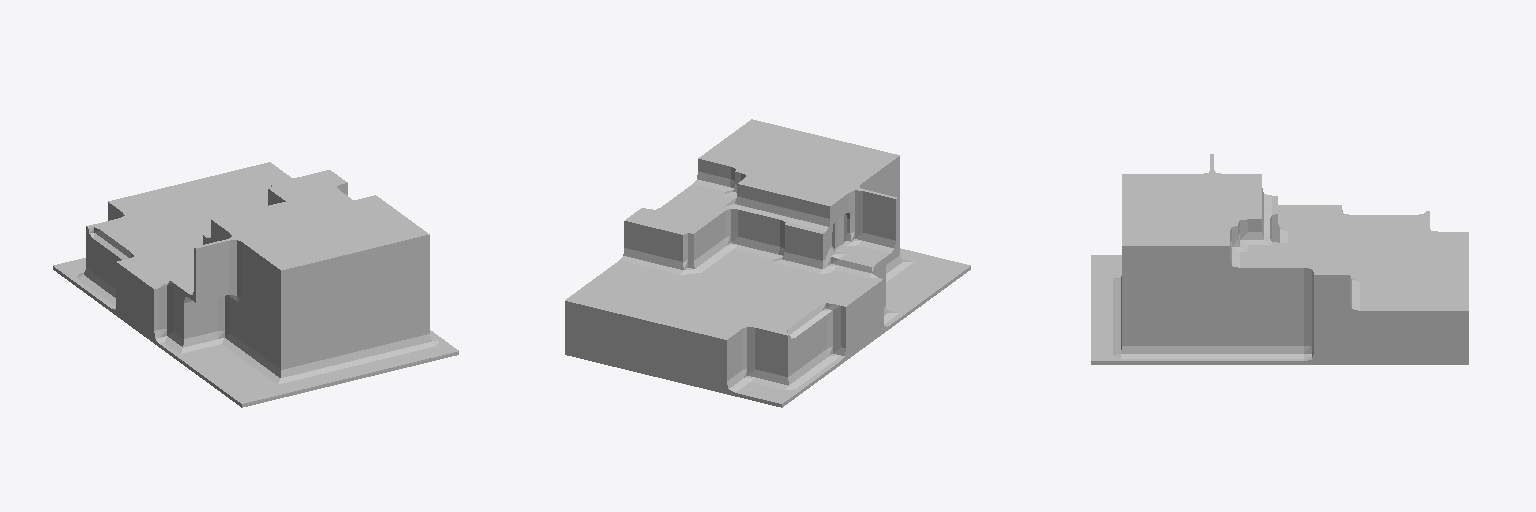
The model's file is World_0.obj.
The picture shows the model from 3 angles: view 1: azimuth 30°, elevation 25°; view 2: azimuth 150°, elevation 25°; view 3: azimuth 270°, elevation 25°; orthographic projection.
Parts seen in each view (by area): view 1: Chunk (2, 0, 5), Chunk (3, 0, 3), Chunk (2, 1, 5), Chunk (1, 0, 5), Chunk (1, 1, 5), Chunk (3, 0, 2), Chunk (2, 1, 4), Chunk (0, 0, 5), Chunk (0, 1, 5), Chunk (3, 0, 1), Chunk (3, 1, 4), Chunk (3, 0, 5) (+13 smaller); view 2: Chunk (2, 1, 3), Chunk (2, 0, 0), Chunk (1, 0, 0), Chunk (3, 0, 0), Chunk (0, 0, 0), Chunk (1, 1, 3), Chunk (3, 0, 2), Chunk (3, 0, 1), Chunk (3, 1, 4), Chunk (2, 1, 4), Chunk (0, 1, 1), Chunk (0, 1, 3) (+16 smaller); view 3: Chunk (0, 0, 1), Chunk (0, 0, 0), Chunk (0, 1, 4), Chunk (0, 0, 3), Chunk (0, 0, 4), Chunk (0, 0, 2), Chunk (0, 1, 3), Chunk (0, 1, 2), Chunk (0, 0, 5), Chunk (0, 1, 5), Chunk (1, 1, 3), Chunk (2, 1, 3) (+14 smaller).
Boxes of the visible parts, <box> form: Chunk (2, 0, 5): <box>265,314,350,394</box>; Chunk (3, 0, 3): <box>147,273,232,360</box>; Chunk (2, 1, 5): <box>266,247,334,326</box>; Chunk (1, 0, 5): <box>335,300,405,380</box>; Chunk (1, 1, 5): <box>321,233,389,312</box>; Chunk (3, 0, 2): <box>115,248,193,337</box>; Chunk (2, 1, 4): <box>234,223,319,314</box>; Chunk (0, 0, 5): <box>390,291,458,367</box>; Chunk (0, 1, 5): <box>375,224,429,299</box>; Chunk (3, 0, 1): <box>83,225,167,314</box>; Chunk (3, 1, 4): <box>193,237,236,302</box>; Chunk (3, 0, 5): <box>211,367,294,407</box>; Chunk (2, 1, 3): <box>772,177,854,268</box>; Chunk (2, 0, 0): <box>673,305,758,394</box>; Chunk (1, 0, 0): <box>618,291,703,380</box>; Chunk (3, 0, 0): <box>729,318,812,407</box>; Chunk (0, 0, 0): <box>565,278,647,367</box>; Chunk (1, 1, 3): <box>714,163,798,252</box>; Chunk (3, 0, 2): <box>792,270,876,360</box>; Chunk (3, 0, 1): <box>760,295,844,384</box>; Chunk (3, 1, 4): <box>855,187,897,253</box>; Chunk (2, 1, 4): <box>800,153,884,193</box>; Chunk (0, 1, 1): <box>623,219,680,268</box>; Chunk (0, 1, 3): <box>673,154,743,207</box>; Chunk (0, 0, 1): <box>1344,283,1407,364</box>; Chunk (0, 0, 0): <box>1408,285,1468,364</box>; Chunk (0, 1, 4): <box>1152,227,1215,301</box>; Chunk (0, 0, 3): <box>1216,302,1279,364</box>; Chunk (0, 0, 4): <box>1152,302,1215,364</box>; Chunk (0, 0, 2): <box>1280,302,1343,364</box>; Chunk (0, 1, 3): <box>1216,227,1279,301</box>; Chunk (0, 1, 2): <box>1280,249,1343,308</box>; Chunk (0, 0, 5): <box>1091,302,1151,364</box>; Chunk (0, 1, 5): <box>1122,227,1151,301</box>; Chunk (1, 1, 3): <box>1216,200,1279,248</box>; Chunk (2, 1, 3): <box>1216,173,1279,242</box>.
Bounding box in the file's own units: 31.5 × 15.5 × 47.5.